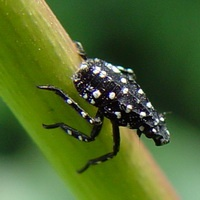insect: (37, 42, 169, 172)
